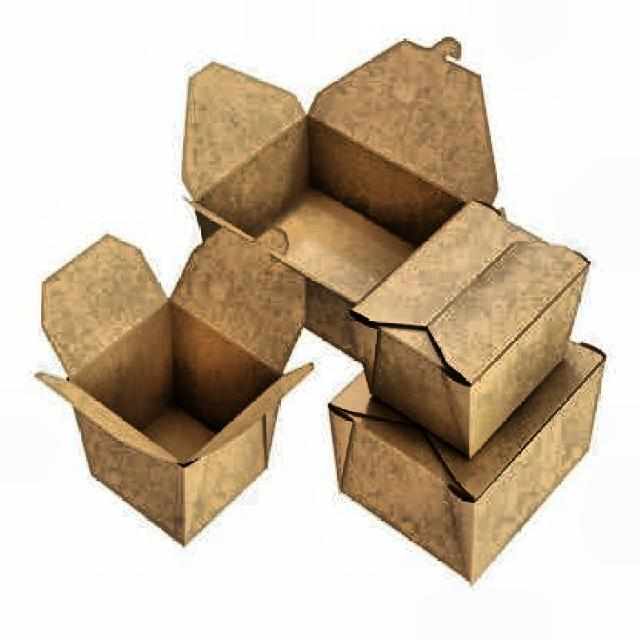Cardbox: (7, 40, 605, 619), (27, 217, 322, 552)
